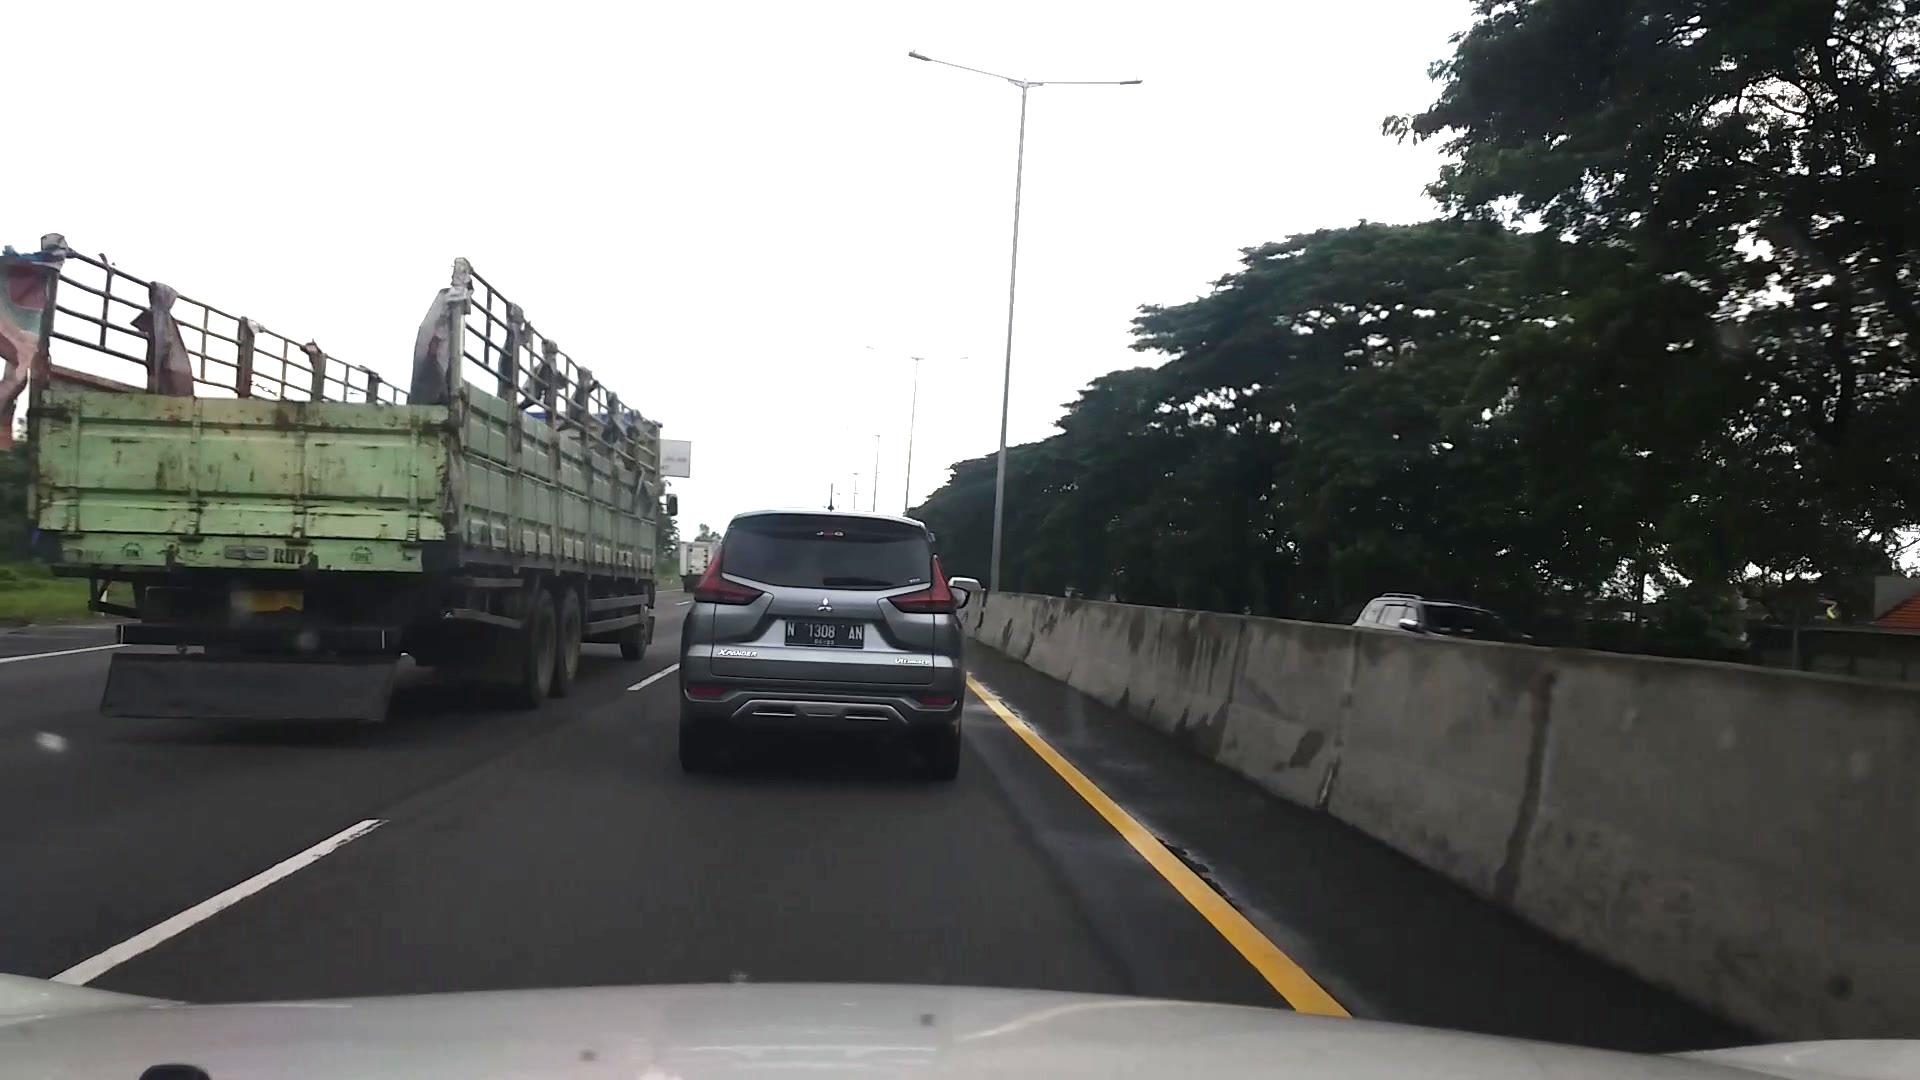plate_positive: (785, 621, 862, 649)
